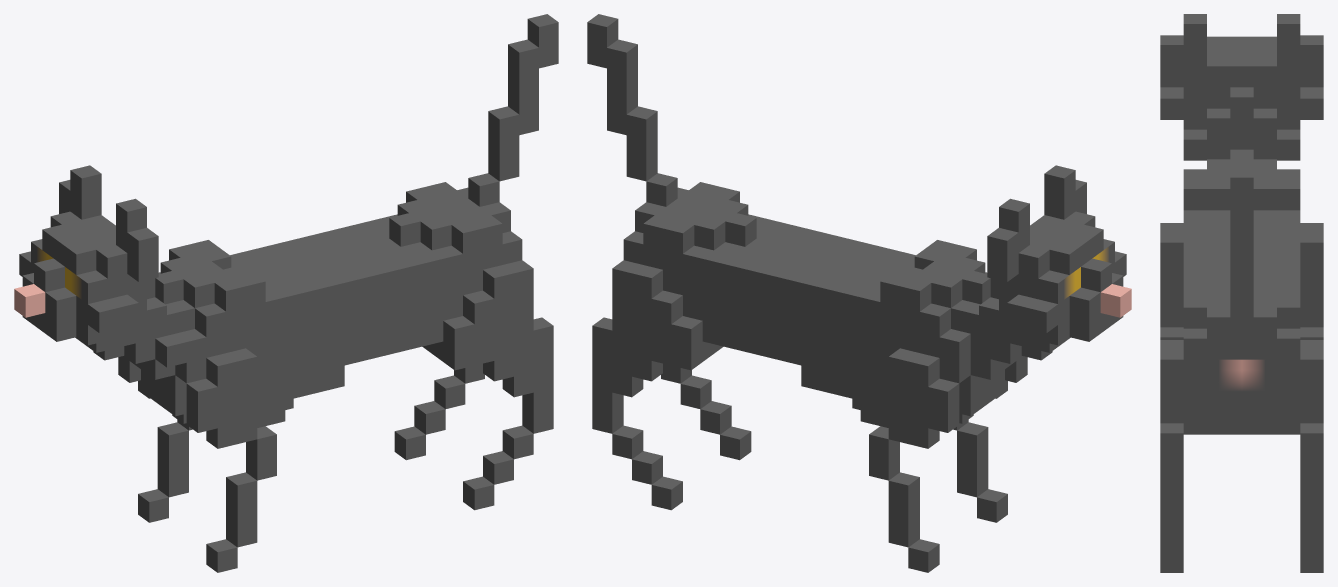
File: Cat.dae
3 views of the same model, side by side, from view 1: azimuth 30°, elevation 25°; view 2: azimuth 150°, elevation 25°; view 3: azimuth 270°, elevation 25° (orthographic). The views are drawn at different scales.
Parts seen in each view (by area): view 1: Cat; view 2: Cat; view 3: Cat.
Boxes of the visible parts, bbox=[...] form: Cat: bbox=[14, 14, 558, 572]; Cat: bbox=[587, 14, 1131, 572]; Cat: bbox=[1160, 14, 1323, 572].
Bounding box in the file's own units: 27 × 21 × 7.
1 material, 1 textured.
